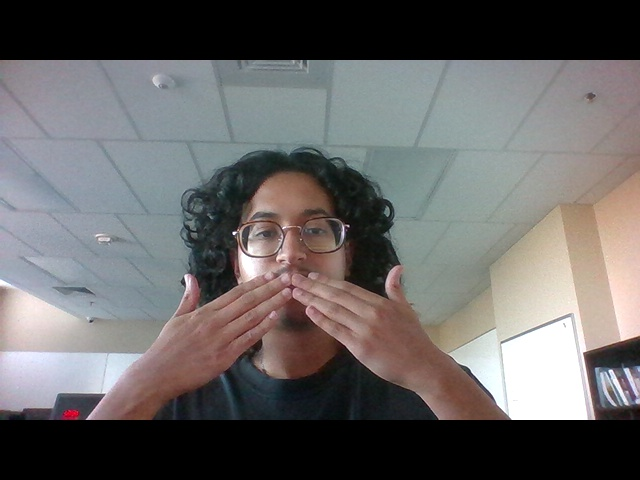thanks: (148, 254, 460, 389)
